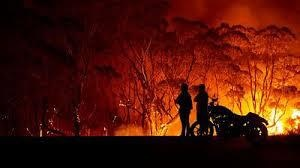fire: (250, 91, 299, 135)
